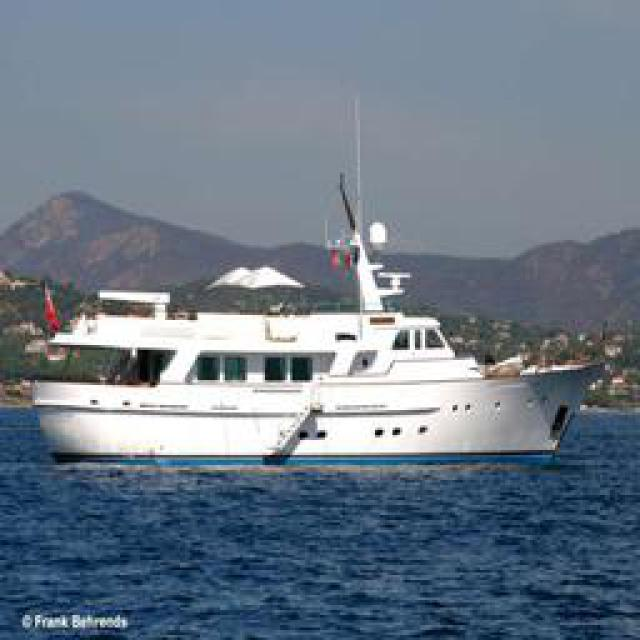Ship: (34, 206, 607, 469)
